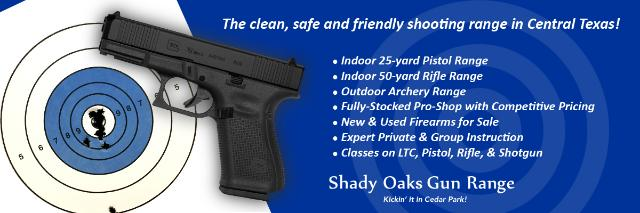handgun: (96, 8, 308, 204)
